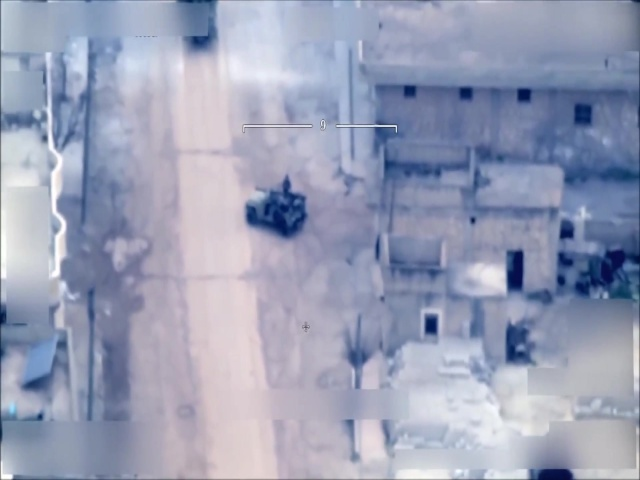vehicle: (244, 184, 310, 238)
